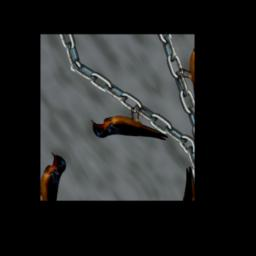Swallow: (86, 86, 170, 174)
